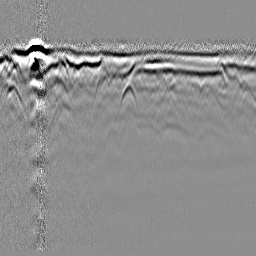cavity: (116, 78, 140, 121)
